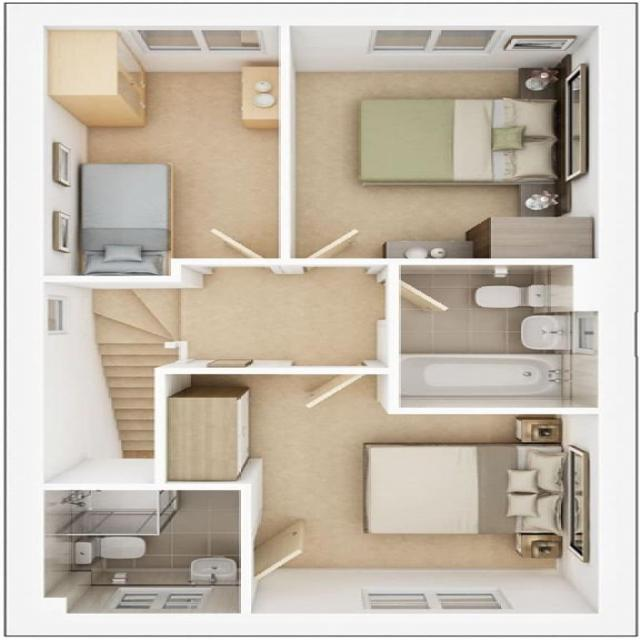DOOR: (285, 366, 372, 412), (179, 225, 269, 268), (237, 528, 306, 581), (306, 226, 388, 268), (385, 277, 452, 323)
ROOM: (151, 367, 640, 640), (276, 0, 640, 267)
